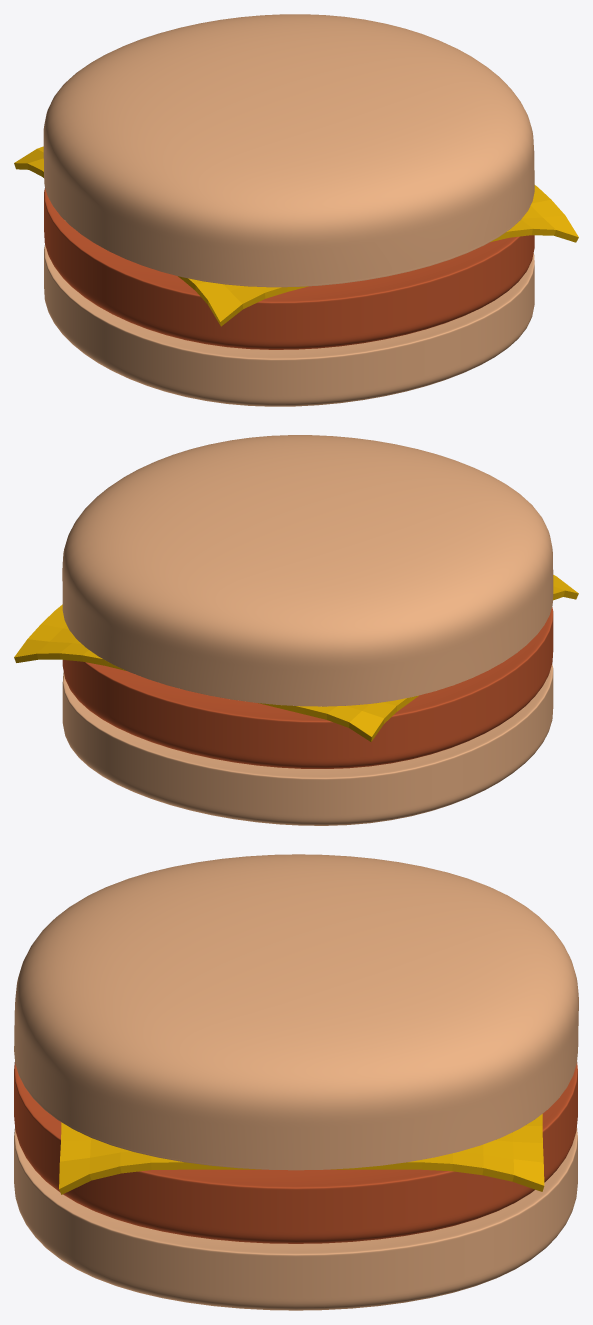
Rendered from hamburger.glb.
The picture shows the model from 3 angles, top to bottom: view 1: azimuth 30°, elevation 25°; view 2: azimuth 150°, elevation 25°; view 3: azimuth 270°, elevation 25°; orthographic projection. The views are drawn at different scales.
Visible parts, largest first — view 1: Cube.002, Cube, Cube.001, Plane; view 2: Cube.002, Cube, Cube.001, Plane; view 3: Cube.002, Cube, Cube.001, Plane.
Boxes of the visible parts, box(x1,y1,x2,y2) form: Cube.002: box(43, 14, 534, 287); Cube: box(44, 245, 534, 406); Cube.001: box(44, 188, 534, 349); Plane: box(14, 146, 578, 326); Cube.002: box(62, 435, 553, 706); Cube: box(62, 664, 553, 825); Cube.001: box(62, 607, 553, 768); Plane: box(14, 575, 578, 741); Cube.002: box(14, 854, 578, 1170); Cube: box(14, 1128, 577, 1310); Cube.001: box(14, 1062, 577, 1243); Plane: box(59, 1114, 544, 1194).
Bounding box in the file's own units: 5.49 × 2.92 × 5.5.
